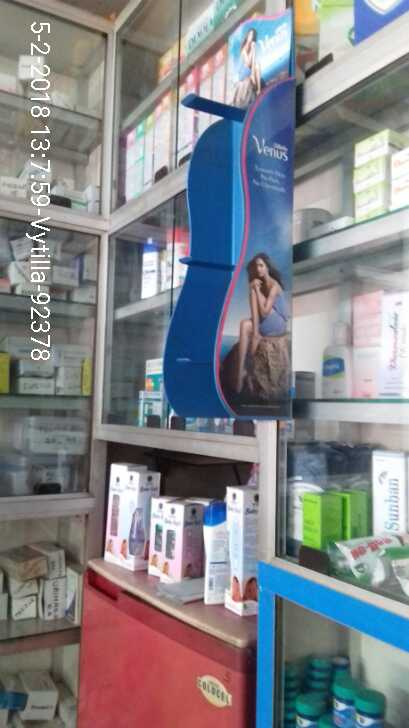reject: (142, 168, 325, 323)
